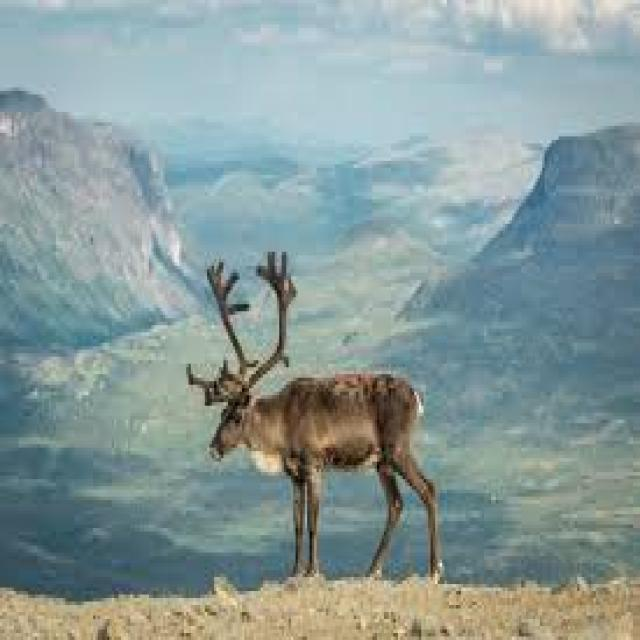Reindeer: (176, 243, 451, 588)
